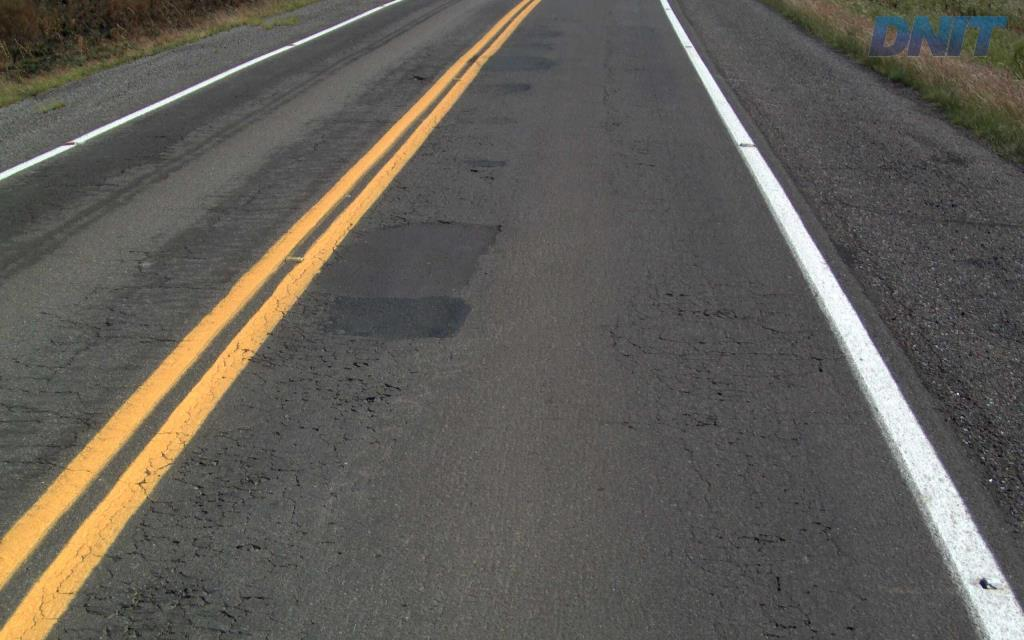crack: (117, 576, 219, 594), (232, 456, 270, 499), (811, 518, 849, 557), (736, 533, 792, 557)
